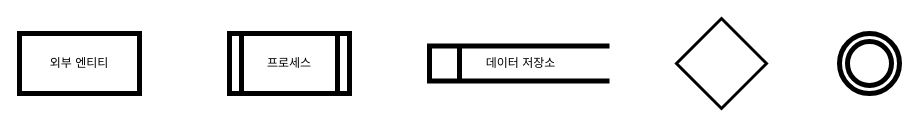
Some shapes in this 919 by 127 pixel diagram are drawn without their labels. Here are the shapes that lost their labels. From the top down, the box of each, then its label:
(674, 16, 768, 110): 분기
(836, 30, 902, 96): 종단점
